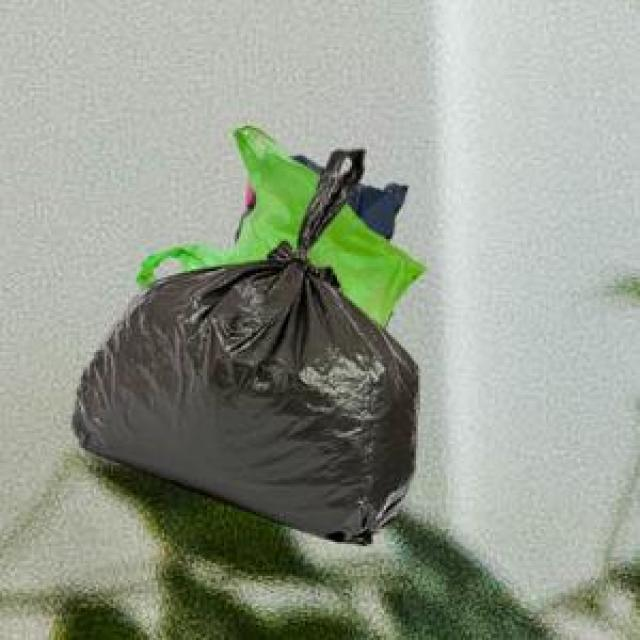miscellaneous trash: (68, 145, 416, 542), (239, 152, 403, 237)
